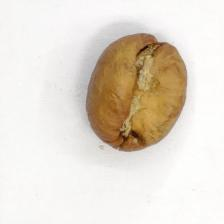NG: (109, 37, 172, 141)
